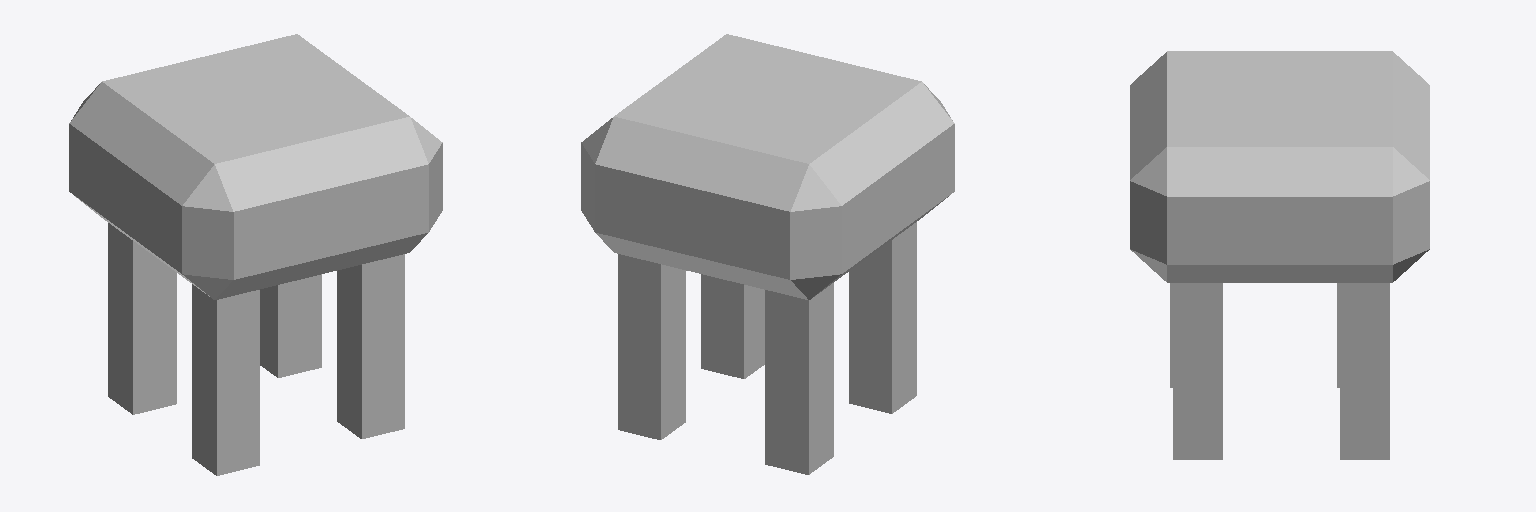
File: pokeBancoRosa.obj
The picture shows the model from 3 angles: view 1: azimuth 30°, elevation 25°; view 2: azimuth 150°, elevation 25°; view 3: azimuth 270°, elevation 25°; orthographic projection.
Parts seen in each view (by area): view 1: bancoPokemon11:pCube2 pasted__pasted__pasted__group20 pasted__pa; view 2: bancoPokemon11:pCube2 pasted__pasted__pasted__group20 pasted__pa; view 3: bancoPokemon11:pCube2 pasted__pasted__pasted__group20 pasted__pa.
Part boxes in pixels (x1,y1,x2,y2): bancoPokemon11:pCube2 pasted__pasted__pasted__group20 pasted__pa: (69, 34, 442, 475); bancoPokemon11:pCube2 pasted__pasted__pasted__group20 pasted__pa: (581, 34, 954, 474); bancoPokemon11:pCube2 pasted__pasted__pasted__group20 pasted__pa: (1130, 51, 1429, 459).
Size of the model in its own units: 0.6483 by 0.7466 by 0.6483.